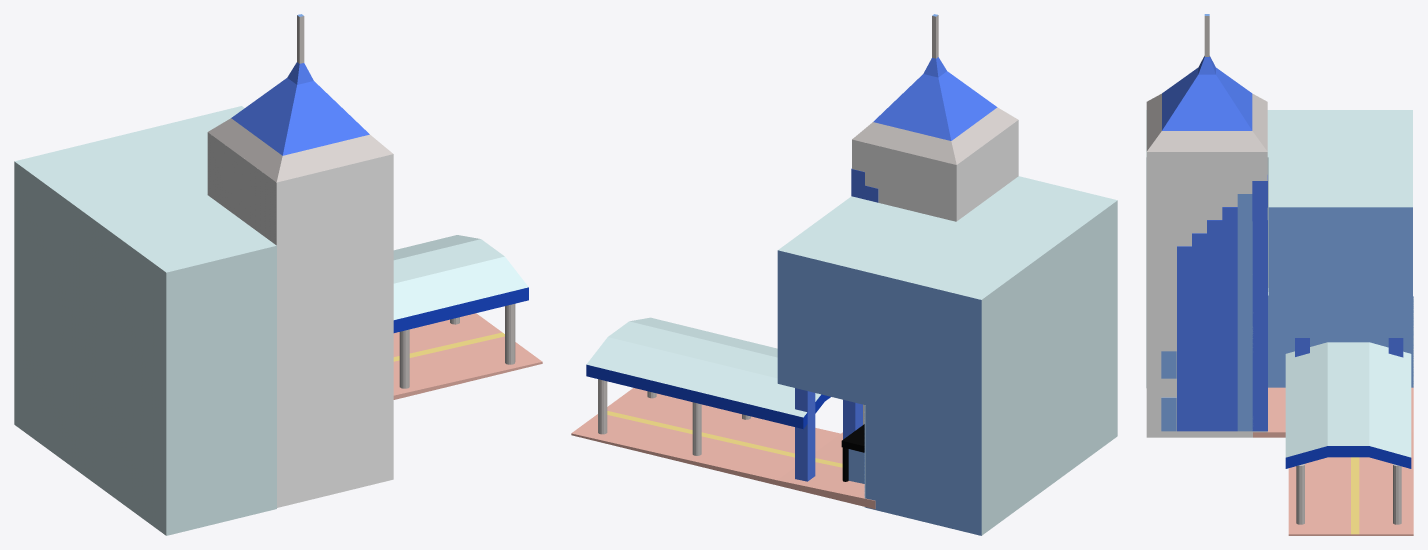
Rendered from honkan_genkan.glb.
The picture shows the model from 3 angles, left to right: view 1: azimuth 30°, elevation 25°; view 2: azimuth 150°, elevation 25°; view 3: azimuth 270°, elevation 25°; orthographic projection. The views are drawn at different scales.
Parts seen in each view (by area): view 1: 本校者・紺の部分, 本校者・三角形校舎, 本校者・三角形屋根, 本校者・昇降口屋根, 本校者・昇降口スロープ, 本校者・昇降口支柱_1; view 2: 本校者・紺の部分, 本校者・昇降口スロープ, 本校者・昇降口屋根, 本校者・三角形屋根, 本校者・三角形校舎, 本校者・昇降口支柱_2, 本校者・昇降口支柱_1, 昇降口・黒いやつ; view 3: 本校者・紺の部分, 本校者・三角部分・紺の部分, 本校者・昇降口屋根, 本校者・三角形校舎, 本校者・昇降口スロープ, 本校者・三角形屋根, 正方形窓・三角部分, 本校者・昇降口支柱_1, 本校者・昇降口支柱_2.
Part boxes in pixels (x1,y1,x2,y2): 本校者・紺の部分: (14,106,276,535); 本校者・三角形校舎: (207,132,393,507); 本校者・三角形屋根: (208,14,392,182); 本校者・昇降口屋根: (393,235,528,332); 本校者・昇降口スロープ: (393,313,542,399); 本校者・昇降口支柱_1: (399,304,515,388); 本校者・紺の部分: (777,176,1117,535); 本校者・昇降口スロープ: (571,388,875,509); 本校者・昇降口屋根: (586,317,830,429); 本校者・三角形屋根: (852,14,1018,164); 本校者・三角形校舎: (852,120,1018,424); 本校者・昇降口支柱_2: (795,388,862,481); 本校者・昇降口支柱_1: (598,379,750,455); 昇降口・黒いやつ: (841,424,864,481); 本校者・紺の部分: (1146,110,1413,387); 本校者・三角部分・紺の部分: (1177,175,1267,431); 本校者・昇降口屋根: (1285,342,1411,468); 本校者・三角形校舎: (1146,152,1267,437); 本校者・昇降口スロープ: (1253,387,1413,535); 本校者・三角形屋根: (1146,14,1267,151); 正方形窓・三角部分: (1161,194,1253,431); 本校者・昇降口支柱_1: (1296,464,1401,524); 本校者・昇降口支柱_2: (1295,338,1403,357).
Bounding box in the file's own units: 8.65 × 8.2 × 4.99.
Materials: 2 (1 with a texture image).
